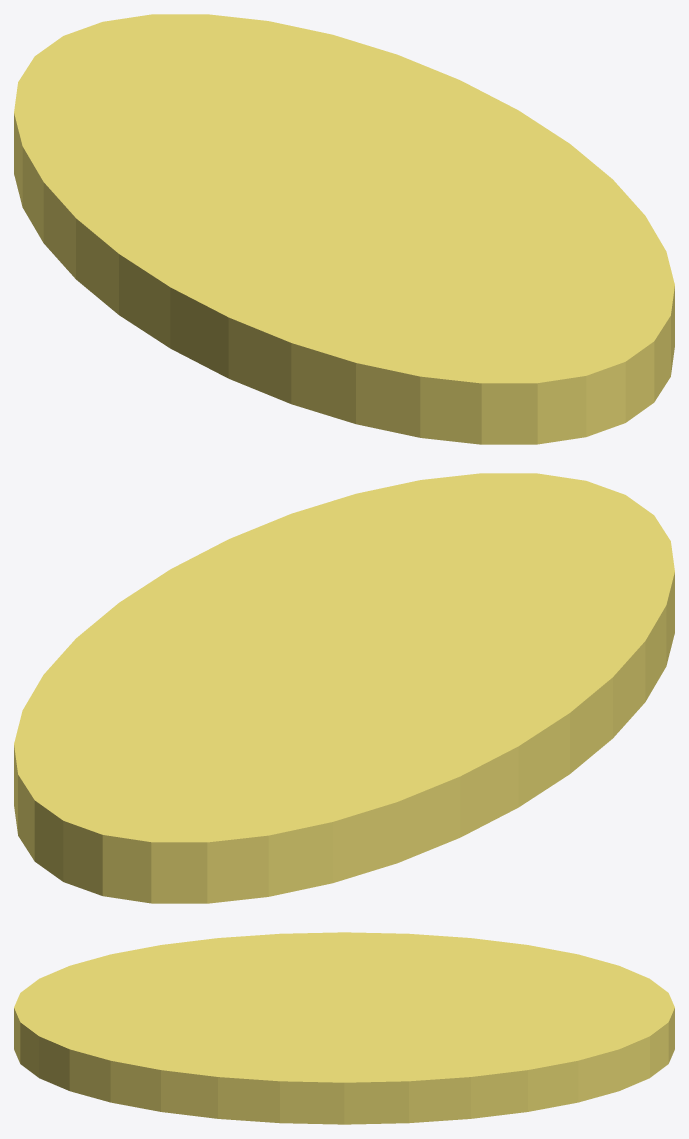
Rendered from pickup_koban.glb.
The picture shows the model from 3 angles, top to bottom: view 1: azimuth 30°, elevation 25°; view 2: azimuth 150°, elevation 25°; view 3: azimuth 270°, elevation 25°; orthographic projection. The views are drawn at different scales.
Parts seen in each view (by area): view 1: Cylinder; view 2: Cylinder; view 3: Cylinder.
Part boxes in pixels (x1,y1,x2,y2): Cylinder: (14, 14, 674, 444); Cylinder: (14, 473, 674, 903); Cylinder: (14, 932, 674, 1124).
Size of the model in its own units: 0.308 by 0.04 by 0.572.
